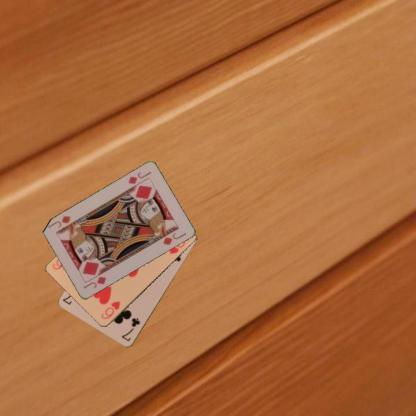6h: (99, 298, 121, 320)
7c: (119, 315, 142, 342)
Jd: (126, 168, 152, 186), (80, 274, 108, 290)
